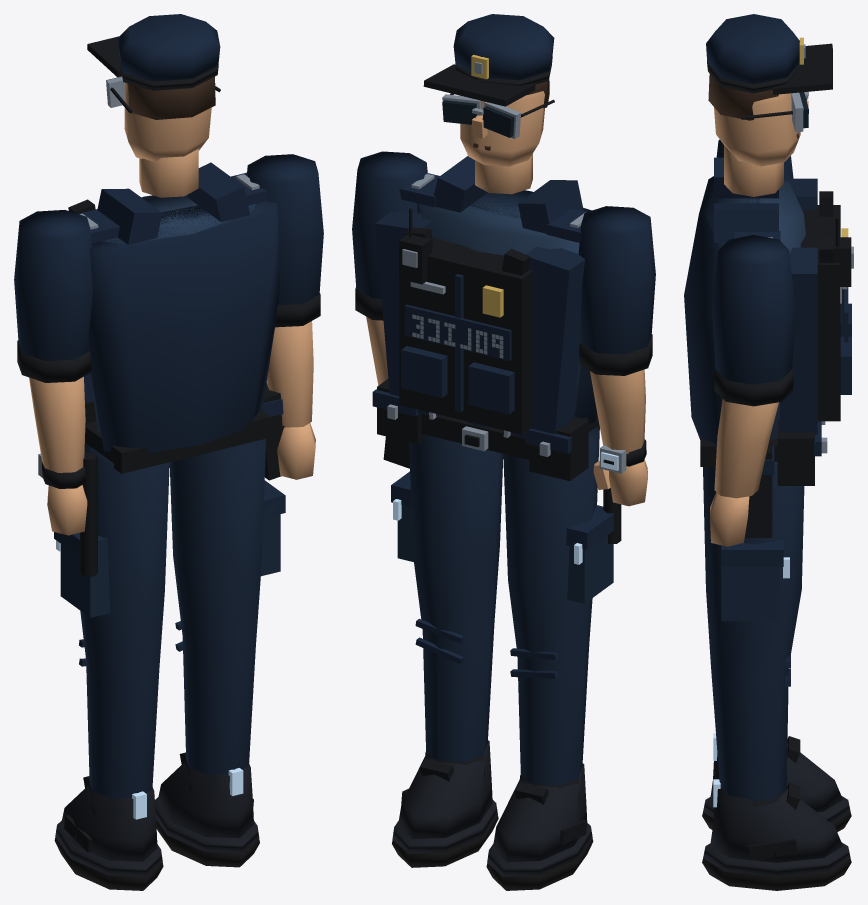
File: main-police.glb
3 views of the same model, side by side, from view 1: azimuth 30°, elevation 25°; view 2: azimuth 150°, elevation 25°; view 3: azimuth 270°, elevation 25° (orthographic).
Visible parts, largest first — view 1: TaperedCargoJogger (×2), JacketBack, BomberSleeve (×2), HighTopSneaker (×2), DefinedForearm (×2), PoliceCapCrown, RaisedCollar (×2), ThighCargoPocket (×2), CurledHandPalm (×2), WhiteMidsole (×2), SculptedFace, TacticalBelt (+11 smaller); view 2: TaperedCargoJogger (×2), BomberSleeve (×2), PatrolVest, OpenJacketFront (×2), HighTopSneaker (×2), FittedTShirt, PoliceCapCrown, DefinedForearm (×2), VestUtilityPocket (×2), RaisedCollar (×2), UtilityPouch (×2), WhiteMidsole (×2) (+21 smaller); view 3: TaperedCargoJogger, BomberSleeve, HighTopSneaker (×2), JacketBack, OpenJacketFront (×2), PoliceCapCrown, PatrolVest, DefinedForearm, SculptedFace, ThighCargoPocket, WhiteMidsole (×2), RaisedCollar (×2) (+17 smaller).
Boxes of the visible parts, x1,y1,x2,y2 form: TaperedCargoJogger (×2): [80, 439, 266, 798]; JacketBack: [88, 201, 280, 453]; BomberSleeve (×2): [14, 154, 323, 360]; HighTopSneaker (×2): [61, 762, 253, 861]; DefinedForearm (×2): [29, 321, 313, 472]; PoliceCapCrown: [117, 14, 220, 81]; RaisedCollar (×2): [97, 162, 250, 244]; ThighCargoPocket (×2): [60, 499, 280, 617]; CurledHandPalm (×2): [47, 423, 315, 535]; WhiteMidsole (×2): [55, 797, 259, 876]; SculptedFace: [124, 82, 211, 162]; TacticalBelt: [85, 409, 270, 473]; TaperedCargoJogger (×2): [409, 427, 599, 785]; BomberSleeve (×2): [352, 151, 655, 354]; PatrolVest: [399, 238, 533, 434]; OpenJacketFront (×2): [375, 211, 585, 438]; HighTopSneaker (×2): [398, 740, 587, 862]; FittedTShirt: [417, 193, 580, 428]; PoliceCapCrown: [453, 14, 554, 80]; DefinedForearm (×2): [366, 316, 645, 453]; VestUtilityPocket (×2): [401, 346, 514, 414]; RaisedCollar (×2): [434, 156, 583, 233]; UtilityPouch (×2): [377, 379, 588, 480]; WhiteMidsole (×2): [392, 800, 592, 876]; TaperedCargoJogger: [703, 462, 804, 801]; BomberSleeve: [712, 235, 795, 384]; HighTopSneaker (×2): [710, 743, 842, 862]; JacketBack: [684, 176, 759, 444]; OpenJacketFront (×2): [780, 178, 817, 434]; PoliceCapCrown: [706, 14, 799, 83]; PatrolVest: [800, 205, 840, 421]; DefinedForearm: [714, 399, 778, 498]; SculptedFace: [714, 93, 800, 166]; ThighCargoPocket: [721, 567, 779, 621]; WhiteMidsole (×2): [703, 796, 850, 876]; RaisedCollar (×2): [714, 157, 778, 242].
Size of the model in its own units: 0.686 by 1.81 by 0.3405.
